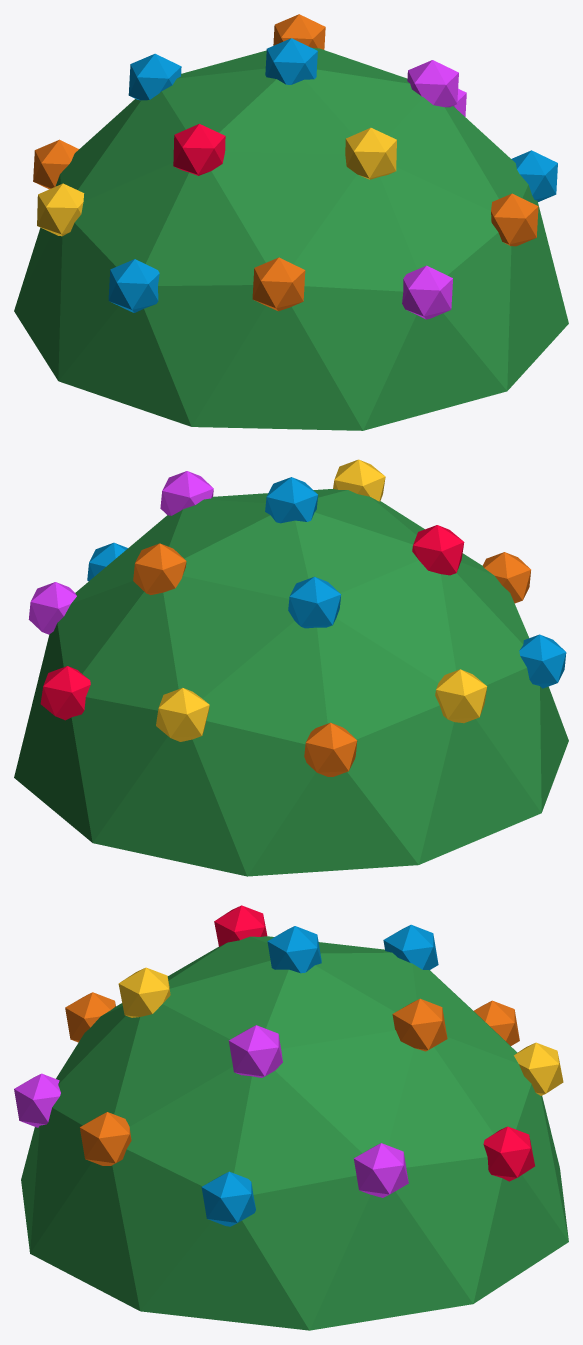
The model's file is BushFruits.fbx.
3 renders of one model, top to bottom at view 1: azimuth 30°, elevation 25°; view 2: azimuth 150°, elevation 25°; view 3: azimuth 270°, elevation 25°, orthographic. The views are drawn at different scales.
Visible parts, largest first — view 1: BushFruits; view 2: BushFruits; view 3: BushFruits.
Part boxes in pixels (<box>): BushFruits: <box>14,14,568,430</box>; BushFruits: <box>14,459,568,876</box>; BushFruits: <box>14,905,568,1330</box>.
Bounding box in the file's own units: 605 × 336 × 592.
